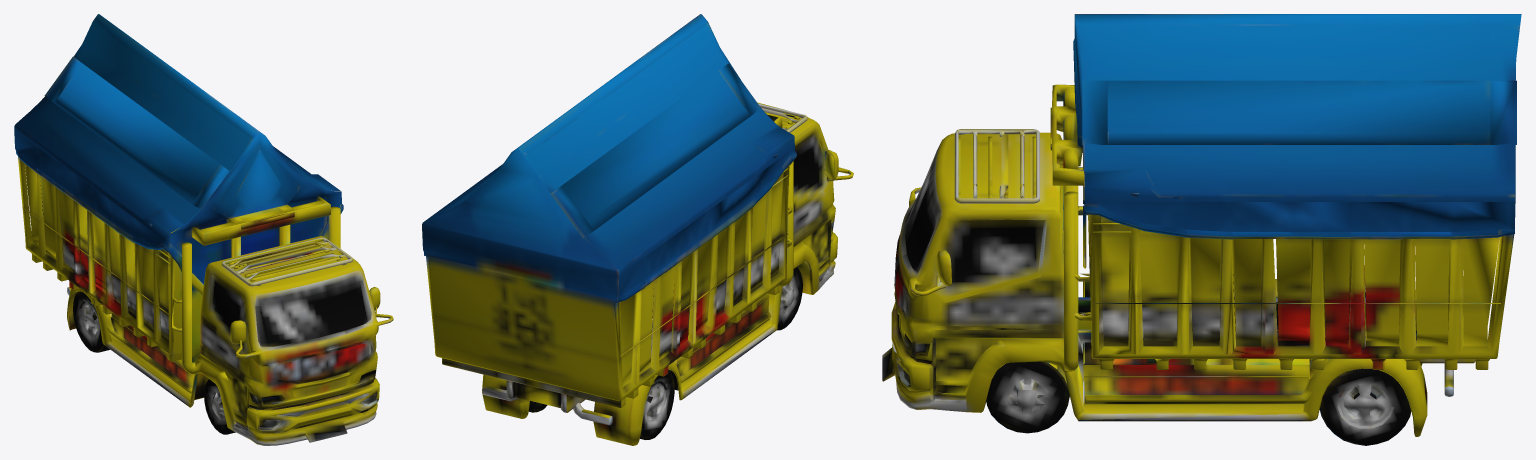
Rendered from truck.glb.
3 renders of one model, left to right at view 1: azimuth 30°, elevation 25°; view 2: azimuth 150°, elevation 25°; view 3: azimuth 270°, elevation 25°, orthographic. The views are drawn at different scales.
Visible parts, largest first — view 1: tripo_node_1766eb5a; view 2: tripo_node_1766eb5a; view 3: tripo_node_1766eb5a.
Part boxes in pixels (box(x1,y1,x2,y2)): tripo_node_1766eb5a: box(14, 14, 393, 445); tripo_node_1766eb5a: box(422, 14, 853, 445); tripo_node_1766eb5a: box(882, 14, 1521, 445).
Bounding box in the file's own units: 44.39 × 66.6 × 99.38.
1 material, 1 textured.
